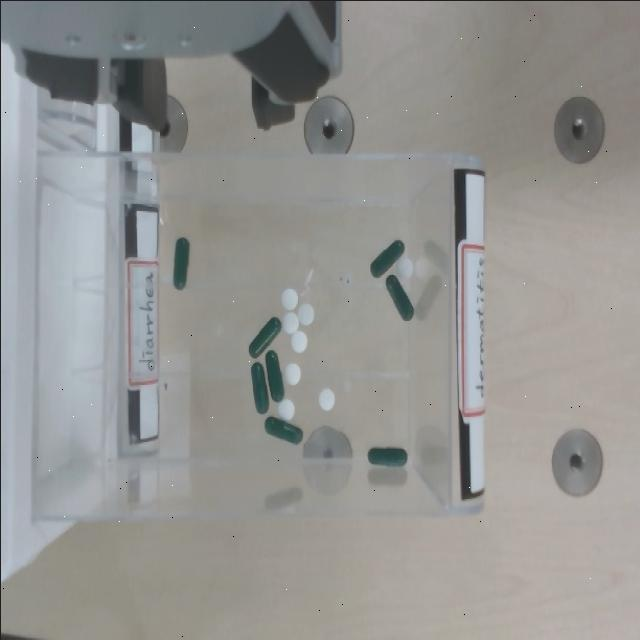ganakan_tab: (280, 286, 298, 312), (282, 361, 300, 385), (396, 256, 414, 279), (276, 397, 294, 420), (317, 386, 334, 410), (290, 328, 307, 352), (281, 310, 298, 334), (297, 302, 314, 325)
monodoxy_cap: (367, 238, 404, 278), (384, 275, 413, 322), (248, 315, 280, 357), (249, 317, 281, 358), (370, 239, 404, 277), (386, 274, 413, 320), (263, 415, 303, 445), (263, 350, 284, 401), (265, 416, 302, 444), (249, 361, 268, 415), (172, 236, 190, 291), (366, 444, 407, 467), (251, 362, 269, 413), (266, 351, 283, 401), (173, 238, 189, 289), (367, 448, 407, 466)
